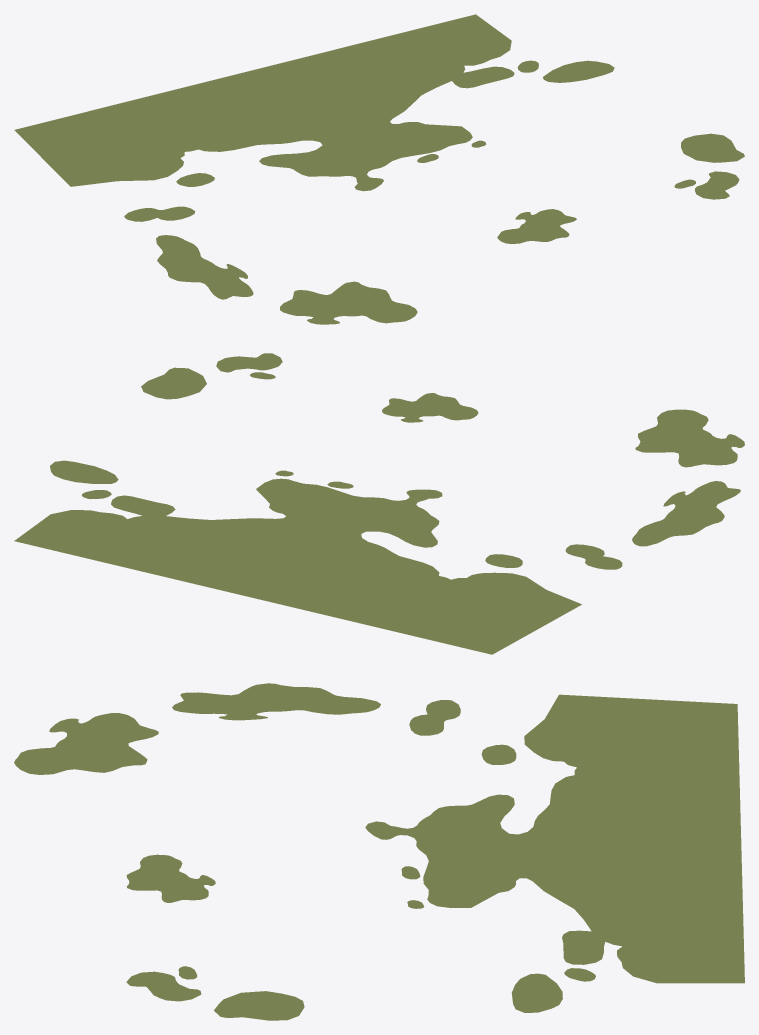
The model's file is GR_Grass_01.fbx.
3 views of the same model, one above another, from view 1: azimuth 30°, elevation 25°; view 2: azimuth 150°, elevation 25°; view 3: azimuth 270°, elevation 25° (orthographic). The views are drawn at different scales.
Visible parts, largest first — view 1: GR_Grass_01; view 2: GR_Grass_01; view 3: GR_Grass_01.
Part boxes in pixels (box(x1,y1,x2,y2)): GR_Grass_01: box(14, 14, 744, 324); GR_Grass_01: box(14, 353, 744, 654); GR_Grass_01: box(14, 683, 744, 1020).
Size of the model in its own units: 10164 by 0 by 9308.
